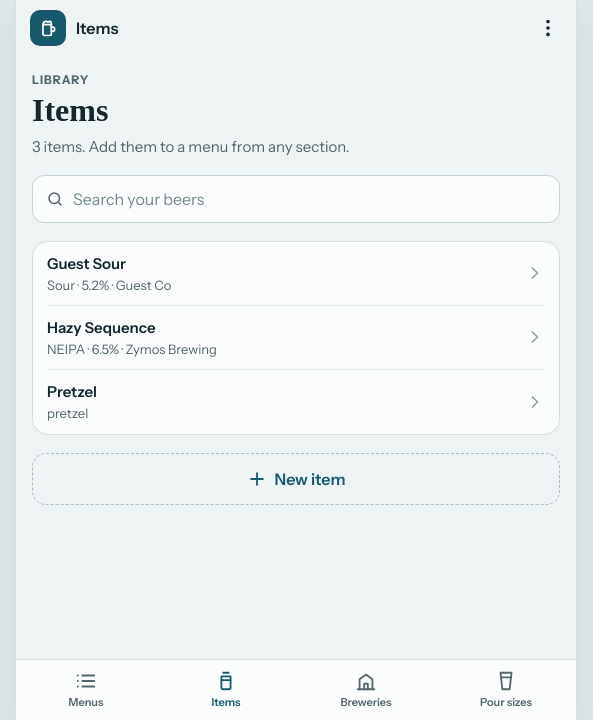
Test: ItemsPage › lists the library and searches by name, style or brewery
The image size is (593, 720).
expect the text "3 items. Add them to a menu from any section." is shown: met, box left=32, top=137, right=350, bottom=156
expect the text "NEIPA · 6.5% · Zymos Brewing" is shown: met, box left=47, top=341, right=217, bottom=357
Type "zymos" into the search field named "Search items" at (296, 199), box left=32, top=175, right=560, bottom=223
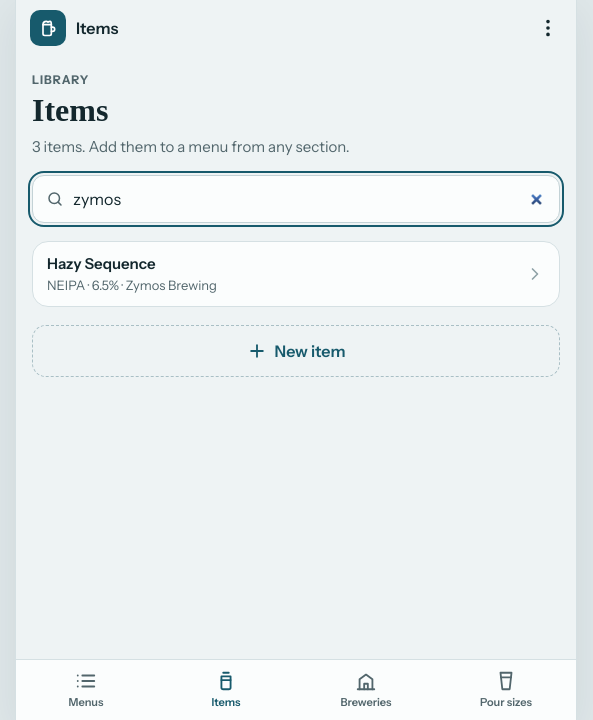
expect the text "Hazy Sequence" is shown: met, box left=47, top=254, right=156, bottom=273
expect the link "Guest Sour" is gone: met
Replace the text in the search field named "Search items" with "porter" at (296, 199), box left=32, top=175, right=560, bottom=223
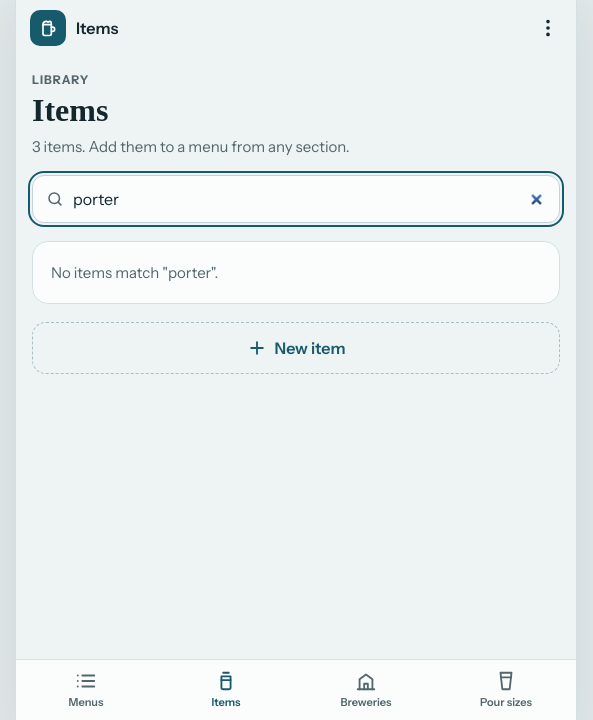
expect the text "No items match \"porter\"." is shown: met, box left=51, top=263, right=218, bottom=282
